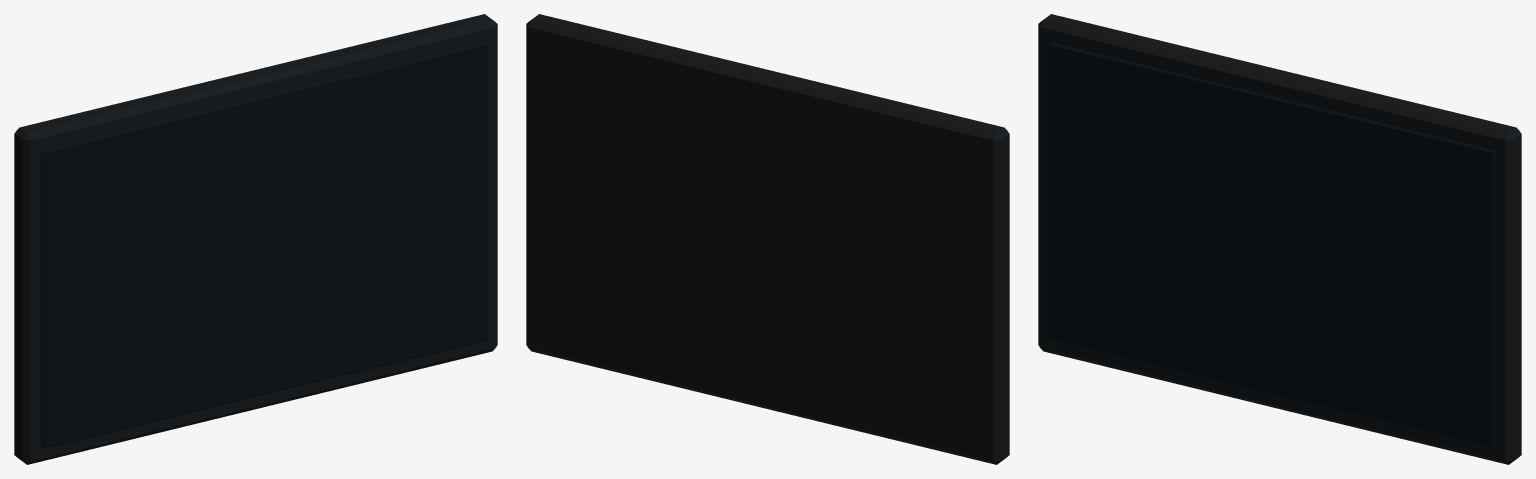
File: WallTelevision.fbx
3 views of the same model, side by side, from view 1: azimuth 30°, elevation 25°; view 2: azimuth 150°, elevation 25°; view 3: azimuth 330°, elevation 25° (orthographic).
Visible parts, largest first — view 1: WallTelevision; view 2: WallTelevision; view 3: WallTelevision.
Boxes of the visible parts, x1=… form: WallTelevision: x1=14, y1=14, x2=497, y2=464; WallTelevision: x1=526, y1=14, x2=1009, y2=464; WallTelevision: x1=1038, y1=14, x2=1521, y2=464.
Bounding box in the file's own units: 150 × 100 × 8.75.
1 material, 1 textured.
